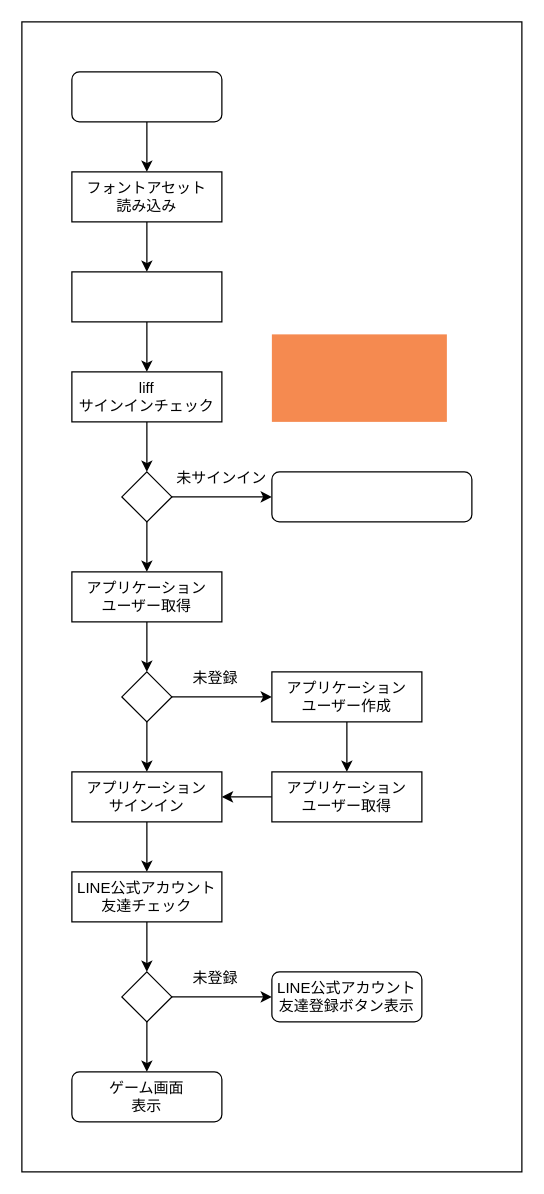
The diagram is 544 pixels wide and 1194 high, and some of its shapes have lost their labels. The centre of each missing label's shape, as x and y in pixels:
liff 初期化: [146,296]
LIFFブラウザの場合、 初期化時に自動で サインインが行われる: [358,377]
LINE サインインボタン表示: [371,496]
トップページ アクセス: [146,96]
